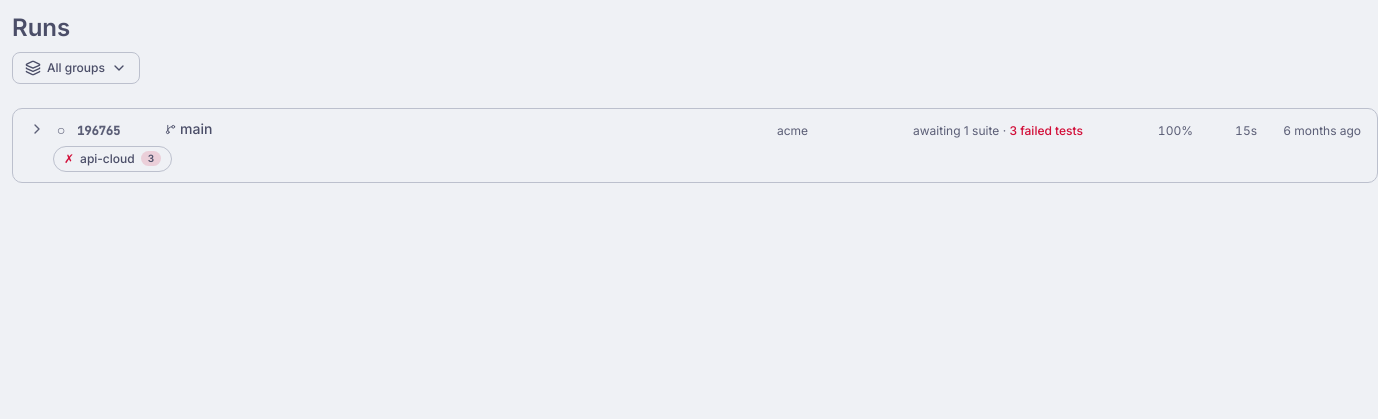
Test: RunsFeedPage polling for a run that is still uploading › lists the failures of a suite that uploads and fails in a row that is open
Click the button with test id "run-row-toggle". click: (37, 129)
box: [25,117,49,141]
Wait 30000 ms
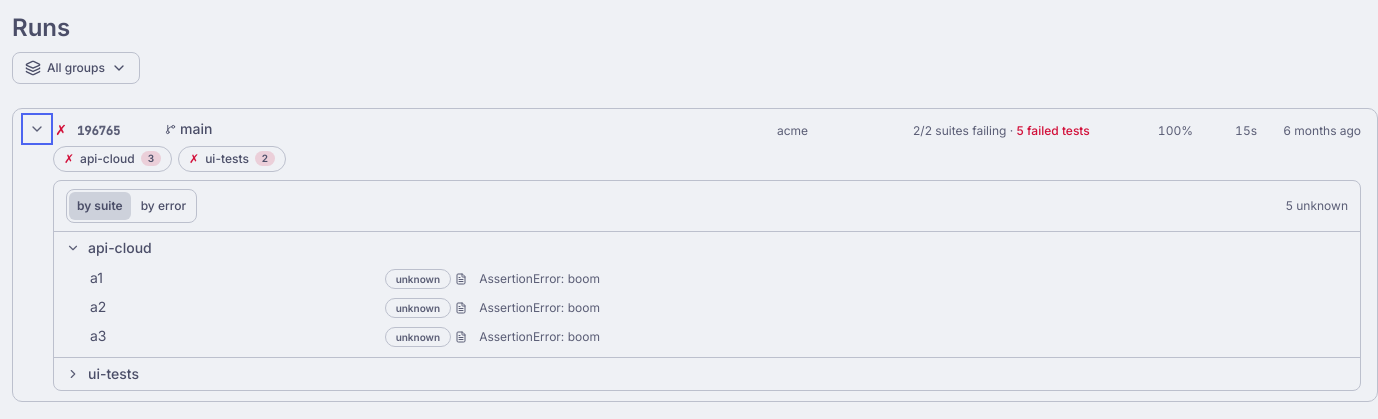
Now the link "a1" is shown, box [90,268,103,286]
Now the text "2/2 suites failing · 5 failed tests" is shown, box [913,122,1090,138]
Now the text "ui-tests" below "a3" is shown, box [88,365,139,382]
